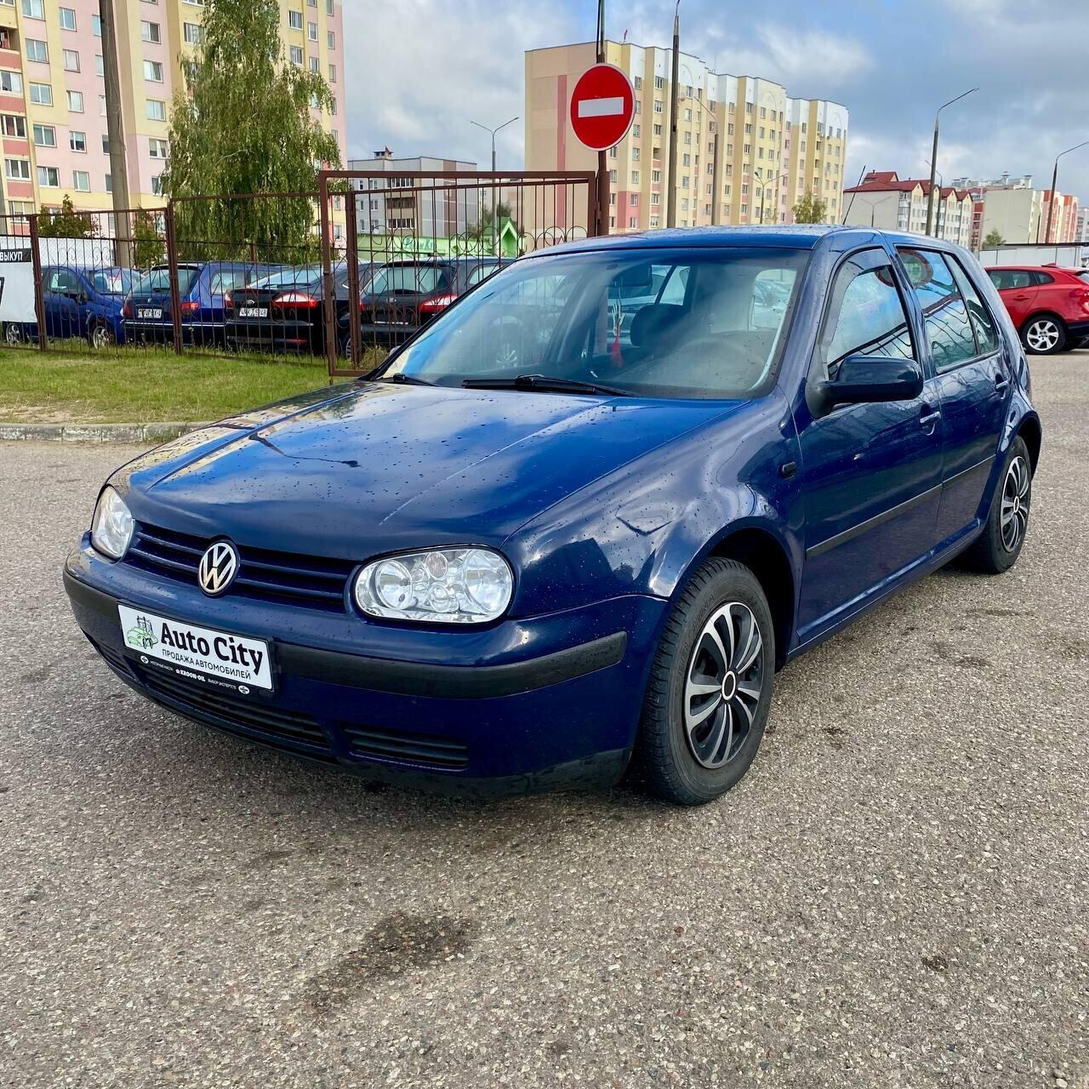Golf_1997-2006: (68, 209, 1041, 803)
